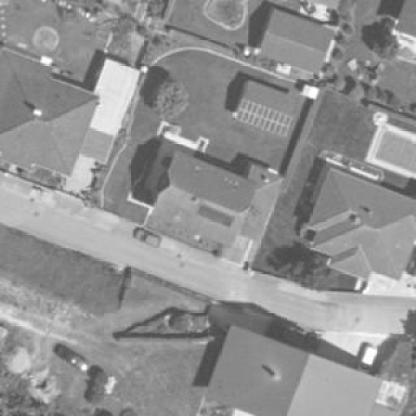solar-pv-panel: (236, 98, 293, 137), (197, 204, 234, 227)
